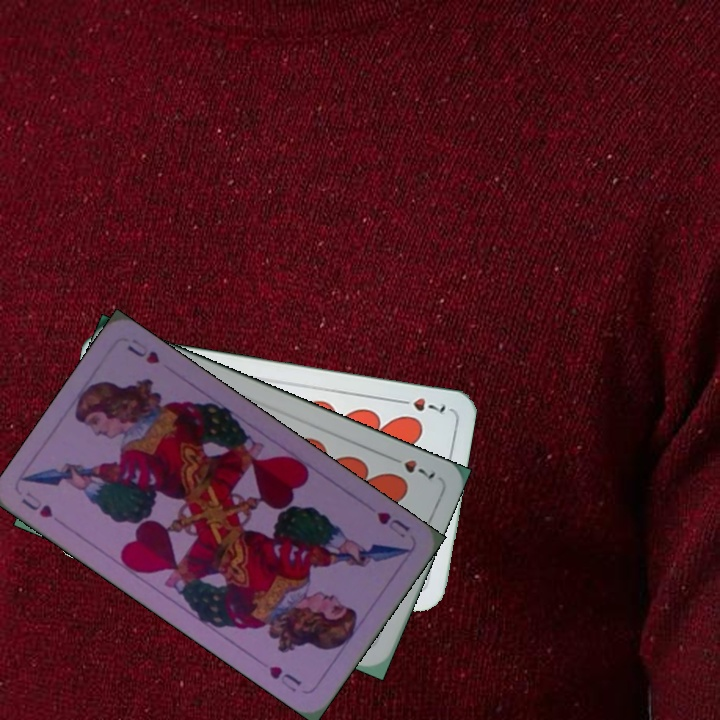H7: (383, 453, 438, 482), (392, 393, 448, 416)
HU: (373, 507, 413, 541), (17, 488, 56, 521)
